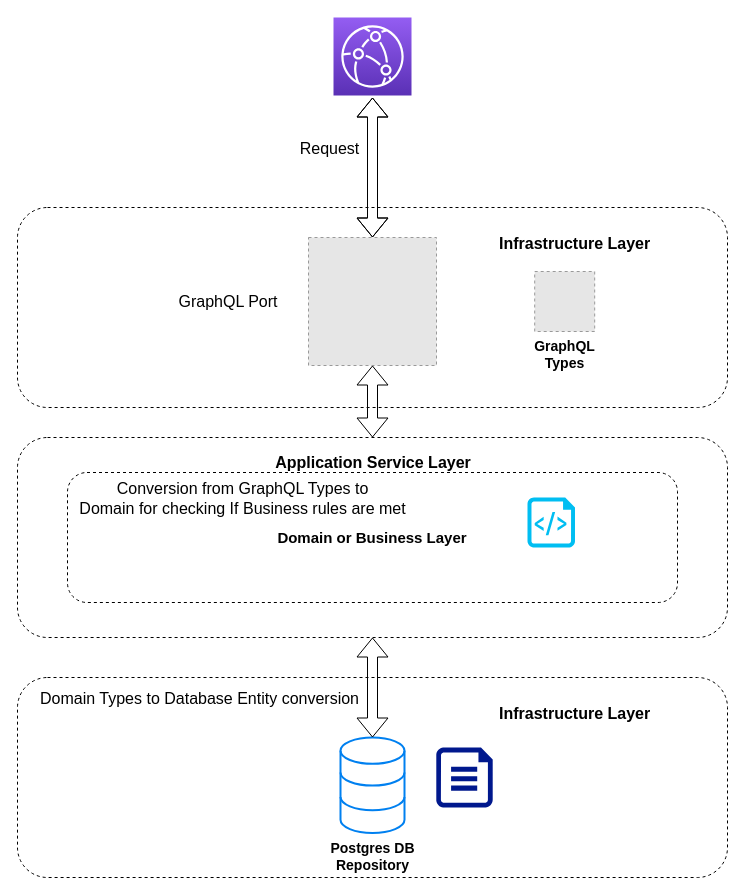
The diagram is 745 pixels wide and 895 high, and some of its shapes have lost their labels. Grey dashed boxes stand in for pictures. The centre of each missing label's shape, as x and y in pixels:
"Database Entity" belongs at (464,777).
"Domain Types" belongs at (550,522).
